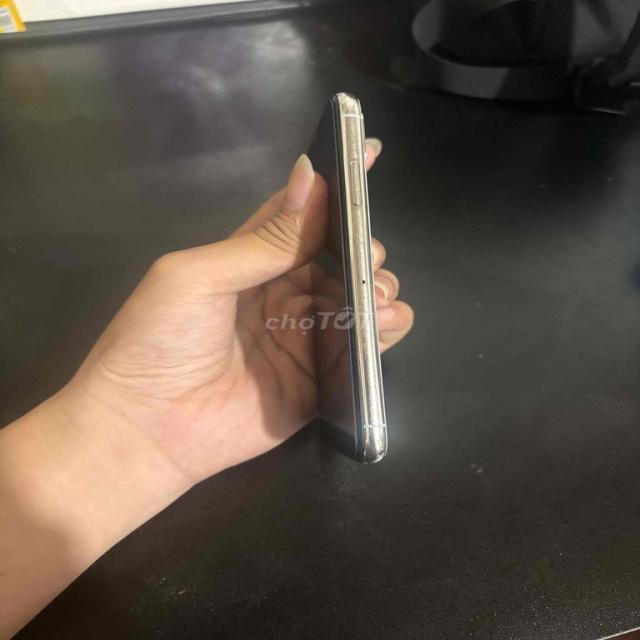gen_x_xs: (301, 91, 390, 465)
scratch: (333, 101, 388, 461)
